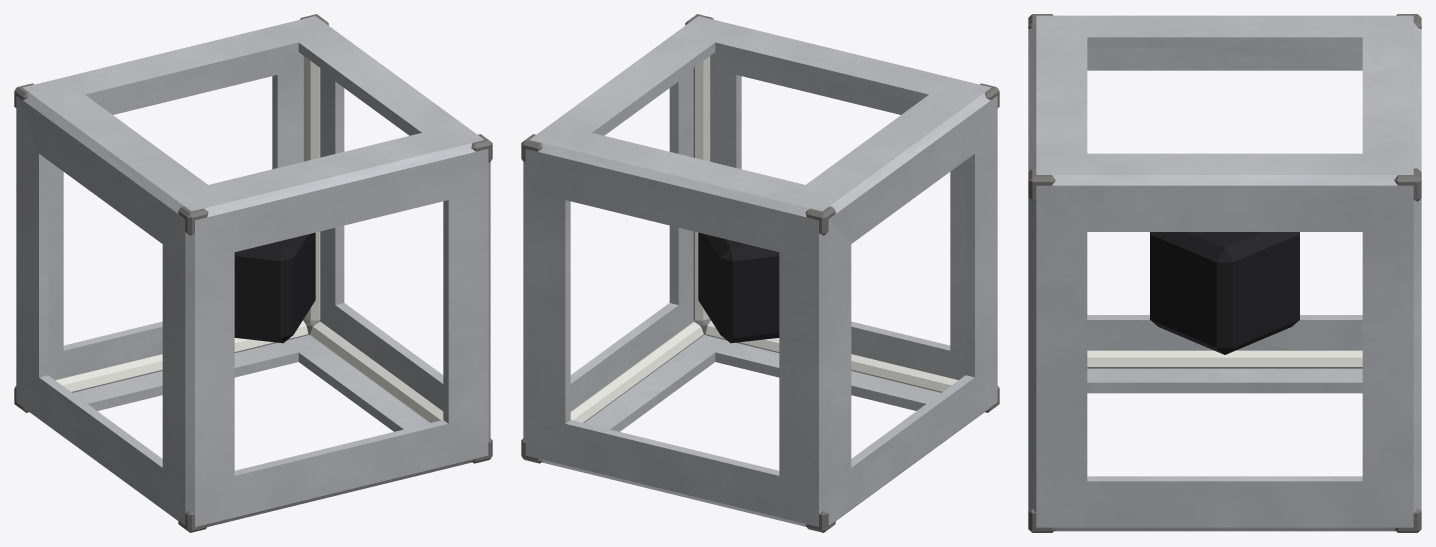
Rendered from ax_gear_10_truss_junction_s.glb.
The picture shows the model from 3 angles, left to right: view 1: azimuth 30°, elevation 25°; view 2: azimuth 150°, elevation 25°; view 3: azimuth 270°, elevation 25°; orthographic projection. The views are drawn at different scales.
Parts seen in each view (by area): view 1: face_frames, core_hub, cube_edges, corner_blocks; view 2: face_frames, core_hub, cube_edges, corner_blocks; view 3: face_frames, core_hub, cube_edges, corner_blocks.
Boxes of the visible parts, left/top/right/bottom form: face_frames: left=16, top=16, right=490, bottom=526; core_hub: left=234, top=232, right=315, bottom=343; cube_edges: left=55, top=56, right=443, bottom=422; corner_blocks: left=14, top=14, right=492, bottom=532; face_frames: left=523, top=16, right=997, bottom=526; core_hub: left=698, top=232, right=779, bottom=343; cube_edges: left=570, top=56, right=958, bottom=422; corner_blocks: left=521, top=14, right=999, bottom=532; face_frames: left=1028, top=15, right=1421, bottom=531; core_hub: left=1150, top=232, right=1299, bottom=354; cube_edges: left=1087, top=350, right=1362, bottom=368; corner_blocks: left=1028, top=14, right=1421, bottom=532.
Bounding box in the file's own units: 1 × 1 × 1.
Materials: 4 (2 with a texture image).
